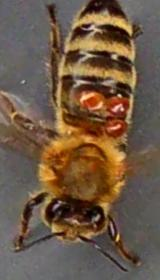varroa_mite: (94, 106, 132, 140), (70, 81, 104, 114), (100, 86, 132, 117)
